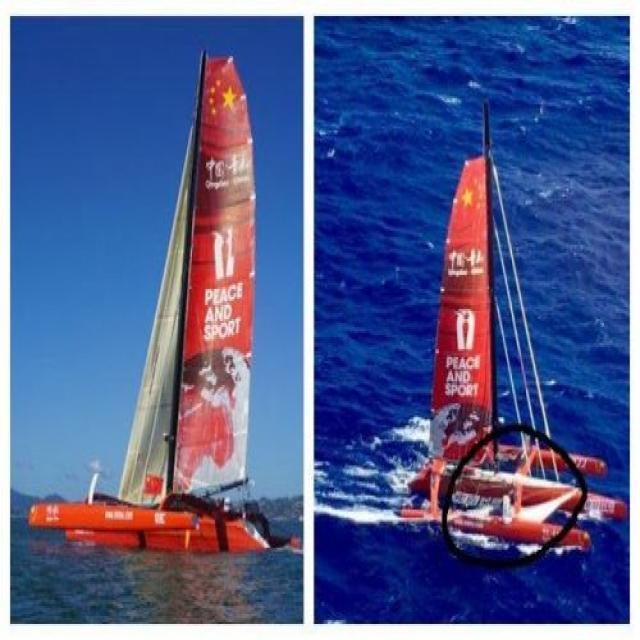Ship: (34, 59, 295, 555), (396, 100, 616, 545)
